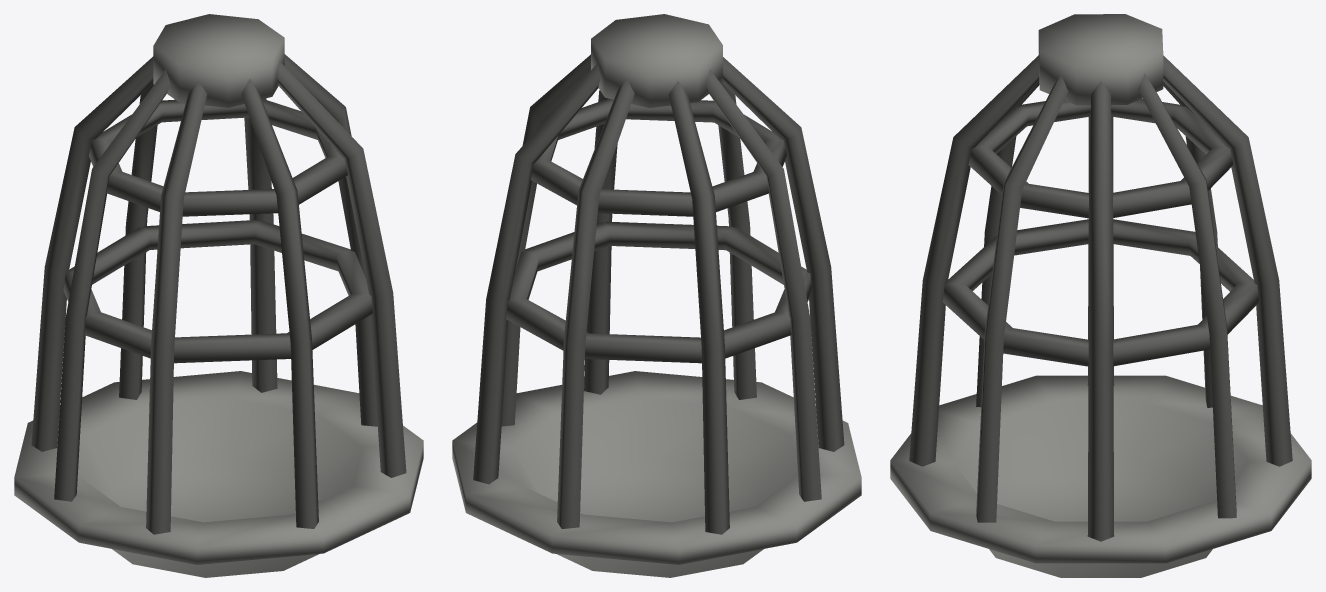
File: rpgpp_ag_cage_01.fbx
3 views of the same model, side by side, from view 1: azimuth 30°, elevation 25°; view 2: azimuth 150°, elevation 25°; view 3: azimuth 270°, elevation 25° (orthographic).
Visible parts, largest first — view 1: rpgpp_ag_cage_01; view 2: rpgpp_ag_cage_01; view 3: rpgpp_ag_cage_01.
Part boxes in pixels (x1=…): rpgpp_ag_cage_01: x1=14, y1=14, x2=423, y2=577; rpgpp_ag_cage_01: x1=452, y1=14, x2=861, y2=577; rpgpp_ag_cage_01: x1=890, y1=14, x2=1311, y2=577.
Size of the model in its own units: 0.3954 by 0.5284 by 0.4158.
